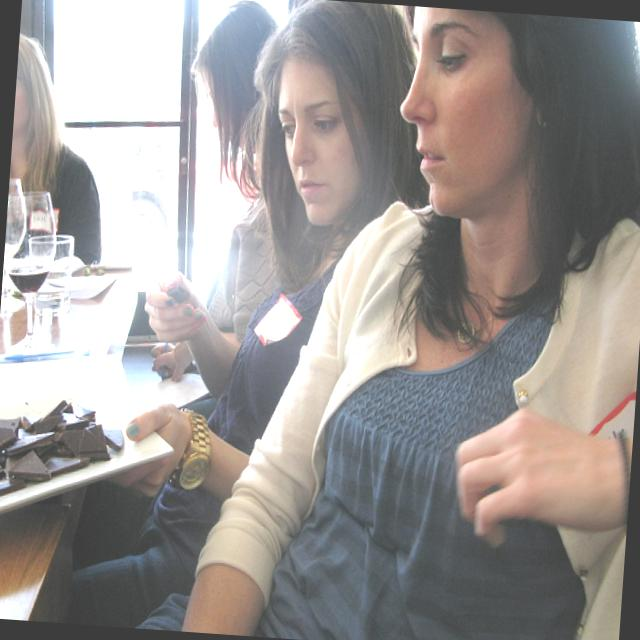Vehicle: (115, 50, 264, 253)
